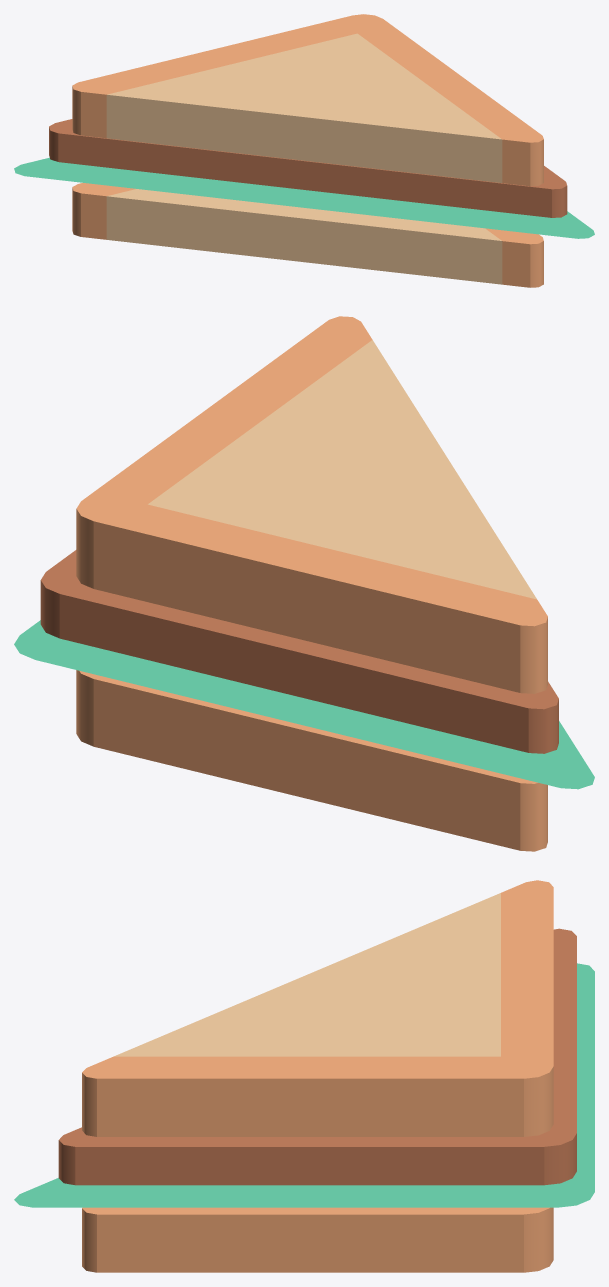
The model's file is Sandwich.glb.
3 views of the same model, one above another, from view 1: azimuth 30°, elevation 25°; view 2: azimuth 150°, elevation 25°; view 3: azimuth 270°, elevation 25° (orthographic). The views are drawn at different scales.
Visible parts, largest first — view 1: Sandwich; view 2: Sandwich; view 3: Sandwich.
Part boxes in pixels (x1=…): Sandwich: x1=14, y1=14, x2=594, y2=287; Sandwich: x1=14, y1=316, x2=594, y2=851; Sandwich: x1=14, y1=880, x2=594, y2=1272.
Size of the model in its own units: 0.4323 by 0.1598 by 0.4339.
